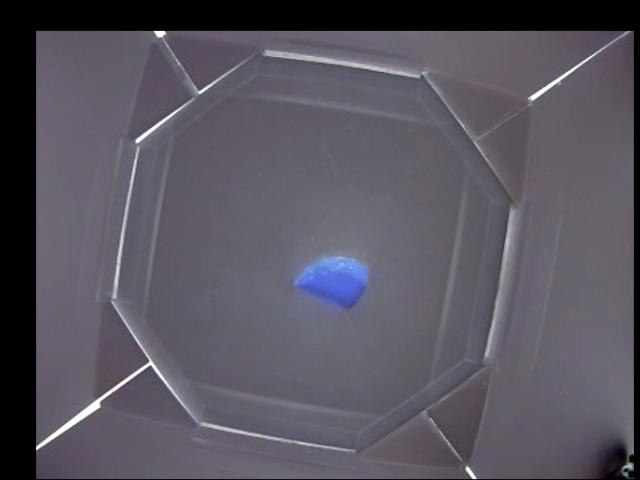Potato: (293, 257, 368, 305)
